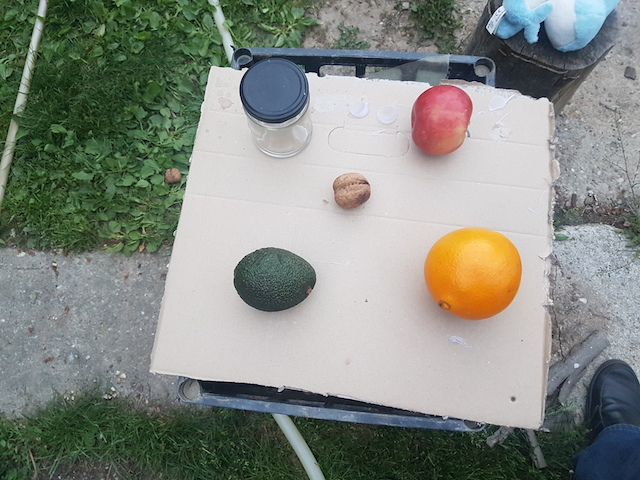apple: (409, 83, 472, 156)
avocado: (232, 244, 317, 313)
nut: (331, 170, 371, 210)
orange: (425, 223, 522, 321)
recipient: (240, 58, 309, 124)
